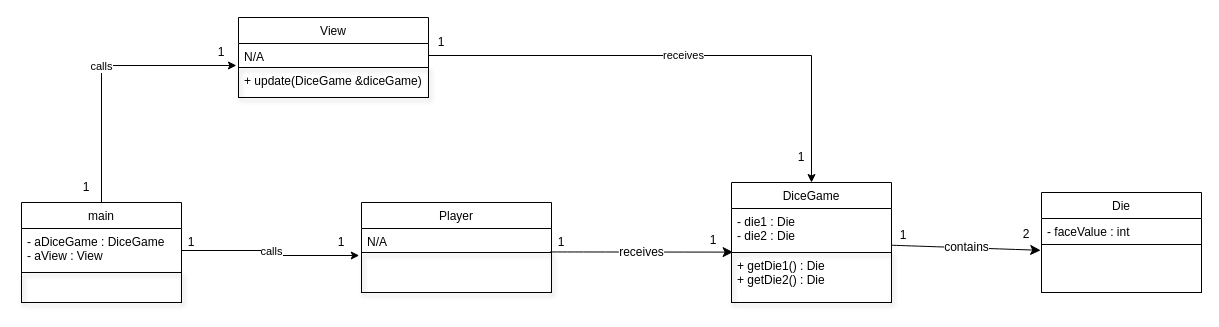
This 1219x327 diagram has some shape labels left out. Here are the shapes that lost their labels. From the top down, the centre of each, then its label:
At pixel 457 274: "+ play(DiceGame &diceGame)".
At pixel 1121 268: "+ getFaceValue() : int + roll()".
At pixel 102 289: "+ main()".
